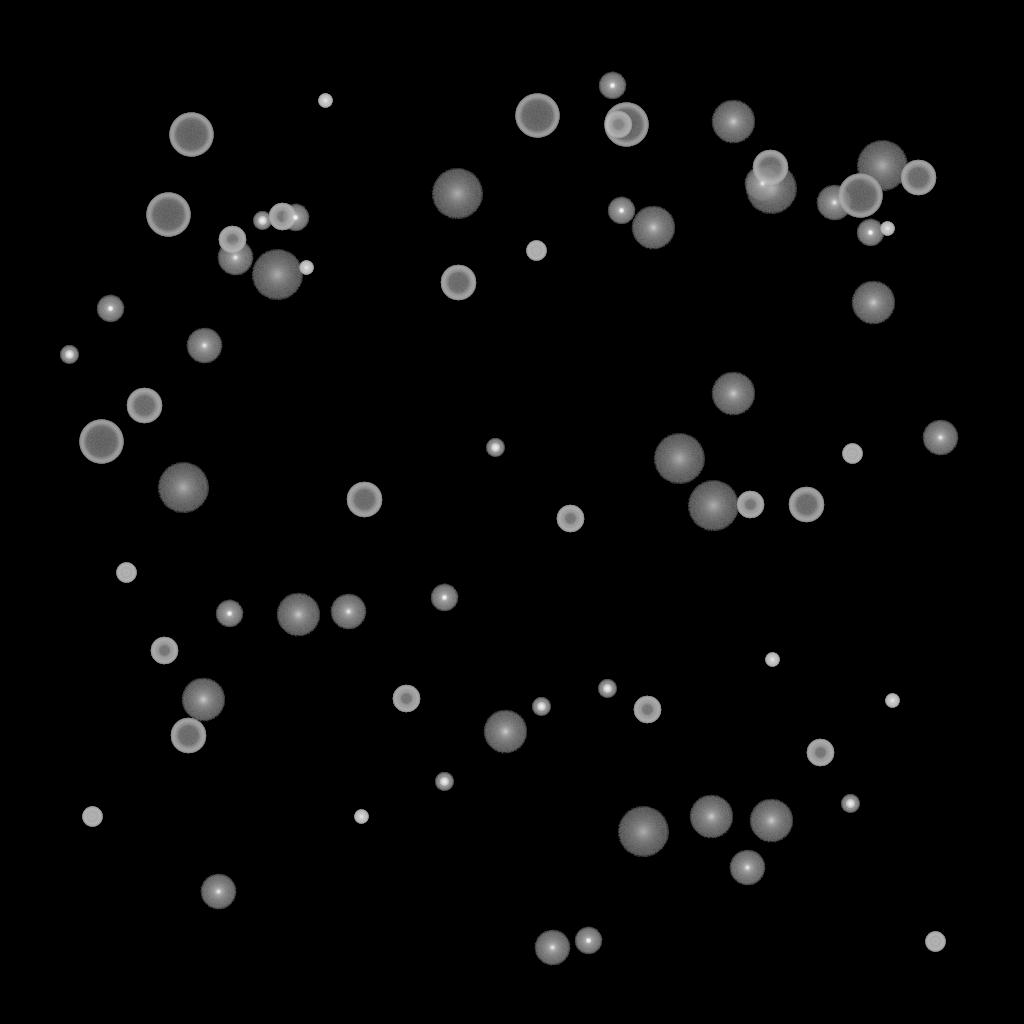depth:-10: (281, 204, 309, 232), (96, 295, 124, 323), (215, 600, 243, 628), (574, 927, 602, 955), (598, 72, 626, 100), (856, 219, 884, 247), (430, 584, 458, 612), (607, 197, 635, 225)
depth:-20: (253, 212, 271, 230), (532, 698, 550, 716), (841, 795, 859, 813), (598, 680, 616, 698), (486, 439, 504, 457), (60, 346, 78, 364), (435, 773, 453, 791)
depth:-30: (299, 261, 313, 275), (765, 653, 779, 667), (318, 94, 332, 108), (880, 222, 894, 236), (354, 810, 368, 824), (885, 694, 899, 708)
depth:-40: (842, 444, 862, 464), (526, 241, 546, 261), (82, 807, 102, 827), (116, 563, 136, 583), (925, 932, 945, 952)
depth:-50: (218, 226, 246, 254), (392, 685, 420, 713), (806, 739, 834, 767), (268, 203, 296, 231), (604, 111, 632, 139), (633, 696, 661, 724), (150, 637, 178, 665), (736, 491, 764, 519), (556, 505, 584, 533)
depth:-60: (170, 718, 206, 754), (440, 265, 476, 301), (752, 150, 788, 186), (126, 388, 162, 424), (900, 160, 936, 196), (788, 487, 824, 523), (346, 482, 382, 518)
depth:-70: (169, 113, 213, 157), (604, 103, 648, 147), (838, 174, 882, 218), (515, 94, 559, 138), (79, 420, 123, 464), (146, 193, 190, 237)
depth:0: (186, 328, 222, 364), (744, 166, 780, 202), (217, 240, 253, 276), (330, 594, 366, 630), (200, 874, 236, 910), (729, 850, 765, 886), (816, 185, 852, 221), (534, 930, 570, 966), (922, 420, 958, 456)
depth:10: (631, 206, 675, 250), (851, 281, 895, 325), (689, 795, 733, 839), (276, 593, 320, 637), (181, 678, 225, 722), (711, 100, 755, 144), (711, 372, 755, 416), (483, 710, 527, 754), (749, 799, 793, 843)
depth:20: (251, 250, 303, 300), (856, 141, 908, 191), (653, 434, 705, 484), (617, 807, 669, 857), (745, 164, 797, 214), (431, 169, 483, 219), (687, 481, 739, 531), (157, 463, 209, 513)
